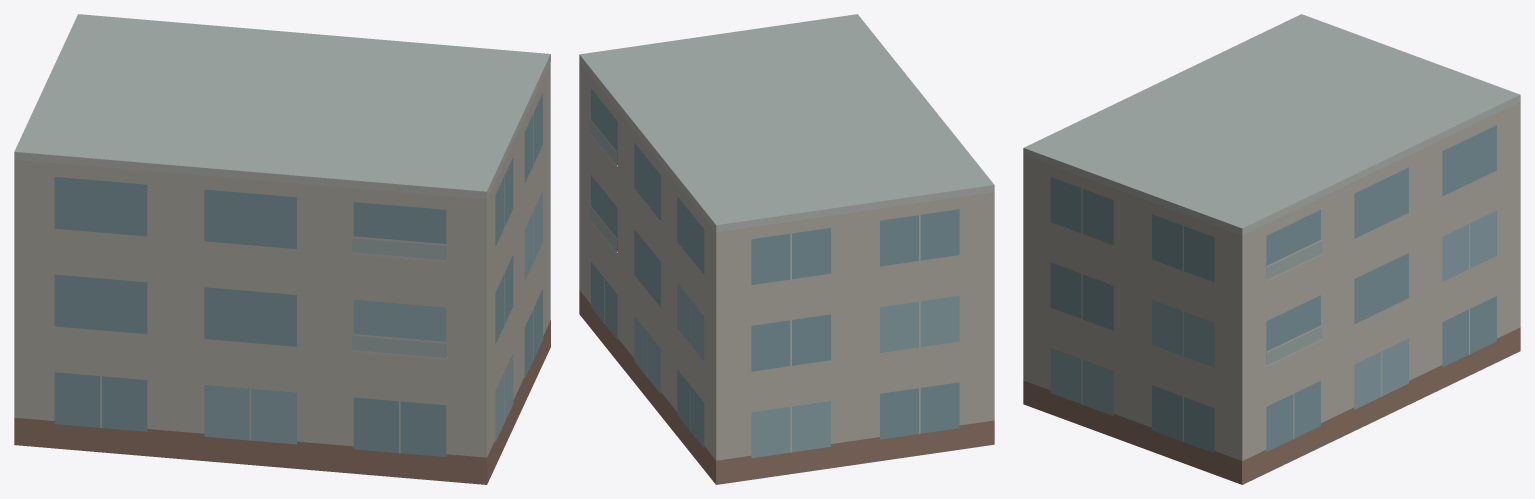
Rendered from survey-upis-32893248.glb.
3 views of the same model, side by side, from view 1: azimuth 30°, elevation 25°; view 2: azimuth 150°, elevation 25°; view 3: azimuth 270°, elevation 25° (orthographic). The views are drawn at different scales.
Parts seen in each view (by area): view 1: survey-upis-32893248.tmp; view 2: survey-upis-32893248.tmp; view 3: survey-upis-32893248.tmp.
Boxes of the visible parts, <box> form: survey-upis-32893248.tmp: <box>14,14,550,484</box>; survey-upis-32893248.tmp: <box>579,14,994,484</box>; survey-upis-32893248.tmp: <box>1023,14,1520,484</box>.
Size of the model in its own units: 16.34 by 9.1 by 16.
